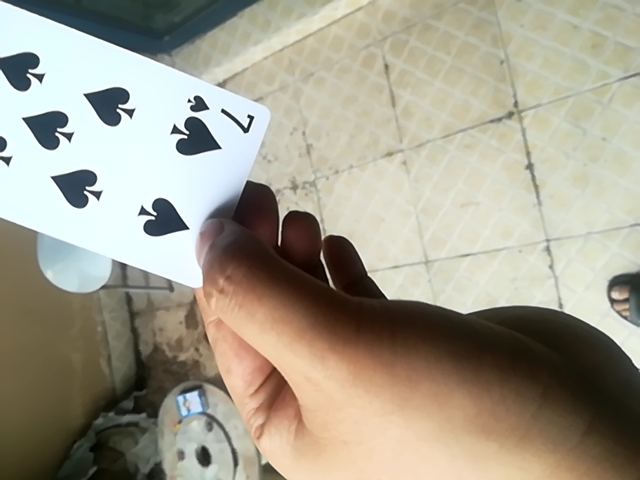ht 7: (0, 2, 273, 297)
